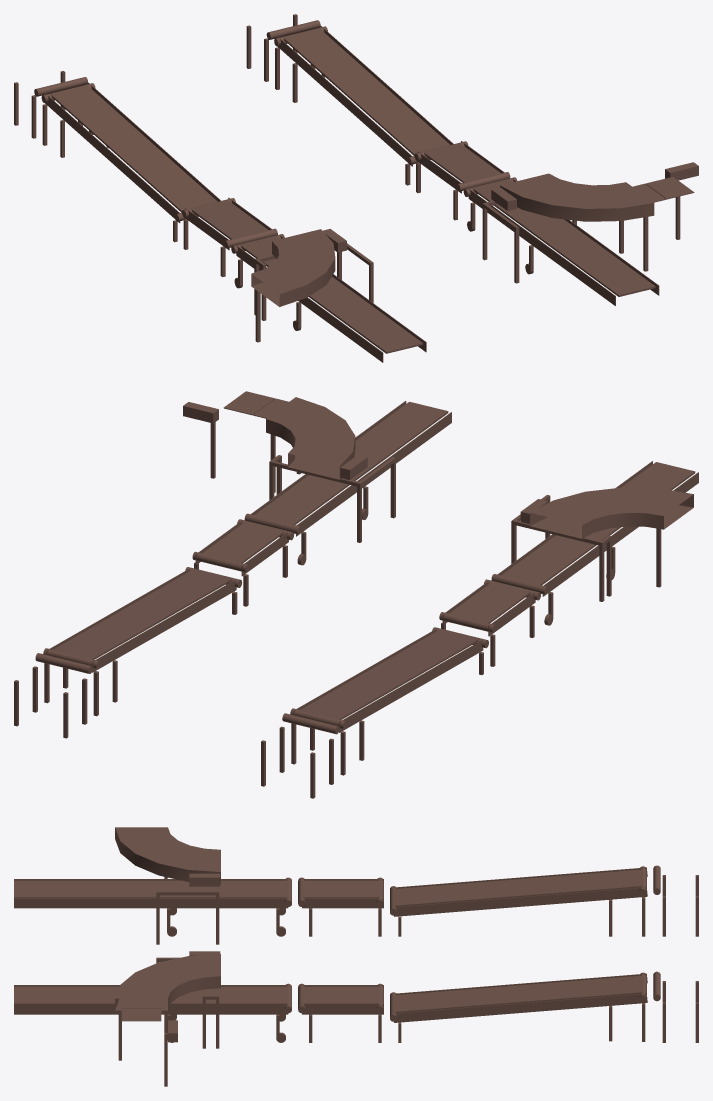
The model's file is GCC-AAV-13220-30.nwd(10).fbx.
3 renders of one model, top to bottom at view 1: azimuth 30°, elevation 25°; view 2: azimuth 150°, elevation 25°; view 3: azimuth 270°, elevation 25°, orthographic. The views are drawn at different scales.
Parts seen in each view (by area): view 1: BOX 9 of SUBEQUIPMENT /721-U-101-X-003, BOX 9 of SUBEQUIPMENT /721-U-102-X-003, RTORUS 1 of SUBEQUIPMENT 1 of EQUIPMENT /721-U-102, BOX 9 of SUBEQUIPMENT /721-U-102-X-015E, RTORUS 1 of SUBEQUIPMENT 2 of EQUIPMENT /721-U-101, BOX 9 of SUBEQUIPMENT /721-U-101-X-015E, BOX 7 of SUBEQUIPMENT /721-U-102-X-015F, BOX 7 of SUBEQUIPMENT /721-U-101-X-015F, BOX 1 of SUBEQUIPMENT /721-U-101-X-003, BOX 2 of SUBEQUIPMENT /721-U-102-X-003, BOX 2 of SUBEQUIPMENT /721-U-102-X-015E, BOX 1 of SUBEQUIPMENT /721-U-101-X-015E (+3 smaller); view 2: RTORUS 1 of SUBEQUIPMENT 2 of EQUIPMENT /721-U-101, BOX 9 of SUBEQUIPMENT /721-U-102-X-015E, BOX 9 of SUBEQUIPMENT /721-U-102-X-003, BOX 9 of SUBEQUIPMENT /721-U-101-X-003, RTORUS 1 of SUBEQUIPMENT 1 of EQUIPMENT /721-U-102, BOX 9 of SUBEQUIPMENT /721-U-101-X-015E, BOX 7 of SUBEQUIPMENT /721-U-101-X-015F, BOX 7 of SUBEQUIPMENT /721-U-102-X-015F, BOX 2 of SUBEQUIPMENT /721-U-102-X-003, BOX 1 of SUBEQUIPMENT /721-U-101-X-003, BOX 2 of SUBEQUIPMENT /721-U-102-X-015E, BOX 1 of SUBEQUIPMENT /721-U-101-X-015E (+1 smaller); view 3: BOX 9 of SUBEQUIPMENT /721-U-101-X-015E, BOX 9 of SUBEQUIPMENT /721-U-102-X-003, BOX 9 of SUBEQUIPMENT /721-U-101-X-003, RTORUS 1 of SUBEQUIPMENT 2 of EQUIPMENT /721-U-101, BOX 9 of SUBEQUIPMENT /721-U-102-X-015E, RTORUS 1 of SUBEQUIPMENT 1 of EQUIPMENT /721-U-102, BOX 2 of SUBEQUIPMENT /721-U-101-X-015E, BOX 1 of SUBEQUIPMENT /721-U-102-X-003, BOX 2 of SUBEQUIPMENT /721-U-101-X-003, BOX 1 of SUBEQUIPMENT /721-U-102-X-015E, BOX 7 of SUBEQUIPMENT /721-U-102-X-015F, BOX 7 of SUBEQUIPMENT /721-U-101-X-015F (+7 smaller).
Boxes of the visible parts, x1,y1,x2,y2 form: BOX 9 of SUBEQUIPMENT /721-U-101-X-003: (50, 85, 217, 212); BOX 9 of SUBEQUIPMENT /721-U-102-X-003: (283, 28, 449, 155); RTORUS 1 of SUBEQUIPMENT 1 of EQUIPMENT /721-U-102: (500, 173, 654, 221); BOX 9 of SUBEQUIPMENT /721-U-102-X-015E: (472, 179, 655, 296); RTORUS 1 of SUBEQUIPMENT 2 of EQUIPMENT /721-U-101: (251, 229, 335, 306); BOX 9 of SUBEQUIPMENT /721-U-101-X-015E: (240, 236, 422, 353); BOX 7 of SUBEQUIPMENT /721-U-102-X-015F: (423, 143, 501, 182); BOX 7 of SUBEQUIPMENT /721-U-101-X-015F: (191, 200, 268, 239); BOX 1 of SUBEQUIPMENT /721-U-101-X-003: (44, 93, 180, 222); BOX 2 of SUBEQUIPMENT /721-U-102-X-003: (277, 36, 412, 166); BOX 2 of SUBEQUIPMENT /721-U-102-X-015E: (468, 189, 615, 305); BOX 1 of SUBEQUIPMENT /721-U-101-X-015E: (236, 245, 383, 362); RTORUS 1 of SUBEQUIPMENT 2 of EQUIPMENT /721-U-101: (530, 487, 693, 538); BOX 9 of SUBEQUIPMENT /721-U-102-X-015E: (254, 401, 448, 524); BOX 9 of SUBEQUIPMENT /721-U-102-X-003: (53, 569, 232, 659); BOX 9 of SUBEQUIPMENT /721-U-101-X-003: (300, 629, 479, 719); RTORUS 1 of SUBEQUIPMENT 1 of EQUIPMENT /721-U-102: (266, 397, 355, 479); BOX 9 of SUBEQUIPMENT /721-U-101-X-015E: (501, 462, 695, 585); BOX 7 of SUBEQUIPMENT /721-U-101-X-015F: (449, 581, 531, 623); BOX 7 of SUBEQUIPMENT /721-U-102-X-015F: (202, 521, 284, 563); BOX 2 of SUBEQUIPMENT /721-U-102-X-003: (92, 579, 236, 672); BOX 1 of SUBEQUIPMENT /721-U-101-X-003: (339, 639, 483, 732); BOX 2 of SUBEQUIPMENT /721-U-102-X-015E: (296, 412, 451, 536); BOX 1 of SUBEQUIPMENT /721-U-101-X-015E: (542, 472, 698, 596); BOX 9 of SUBEQUIPMENT /721-U-101-X-015E: (14, 880, 288, 898); BOX 9 of SUBEQUIPMENT /721-U-102-X-003: (393, 975, 642, 1013); BOX 9 of SUBEQUIPMENT /721-U-101-X-003: (393, 869, 642, 906); RTORUS 1 of SUBEQUIPMENT 2 of EQUIPMENT /721-U-101: (115, 827, 220, 883); BOX 9 of SUBEQUIPMENT /721-U-102-X-015E: (14, 986, 288, 1004); RTORUS 1 of SUBEQUIPMENT 1 of EQUIPMENT /721-U-102: (115, 954, 220, 1010); BOX 2 of SUBEQUIPMENT /721-U-101-X-015E: (14, 898, 288, 908); BOX 1 of SUBEQUIPMENT /721-U-102-X-003: (394, 993, 647, 1022); BOX 2 of SUBEQUIPMENT /721-U-101-X-003: (394, 887, 647, 916); BOX 1 of SUBEQUIPMENT /721-U-102-X-015E: (14, 1005, 288, 1014); BOX 7 of SUBEQUIPMENT /721-U-102-X-015F: (302, 986, 380, 1004); BOX 7 of SUBEQUIPMENT /721-U-101-X-015F: (302, 880, 380, 898).
Bounding box in the file's own units: 288 × 43.03 × 408.
